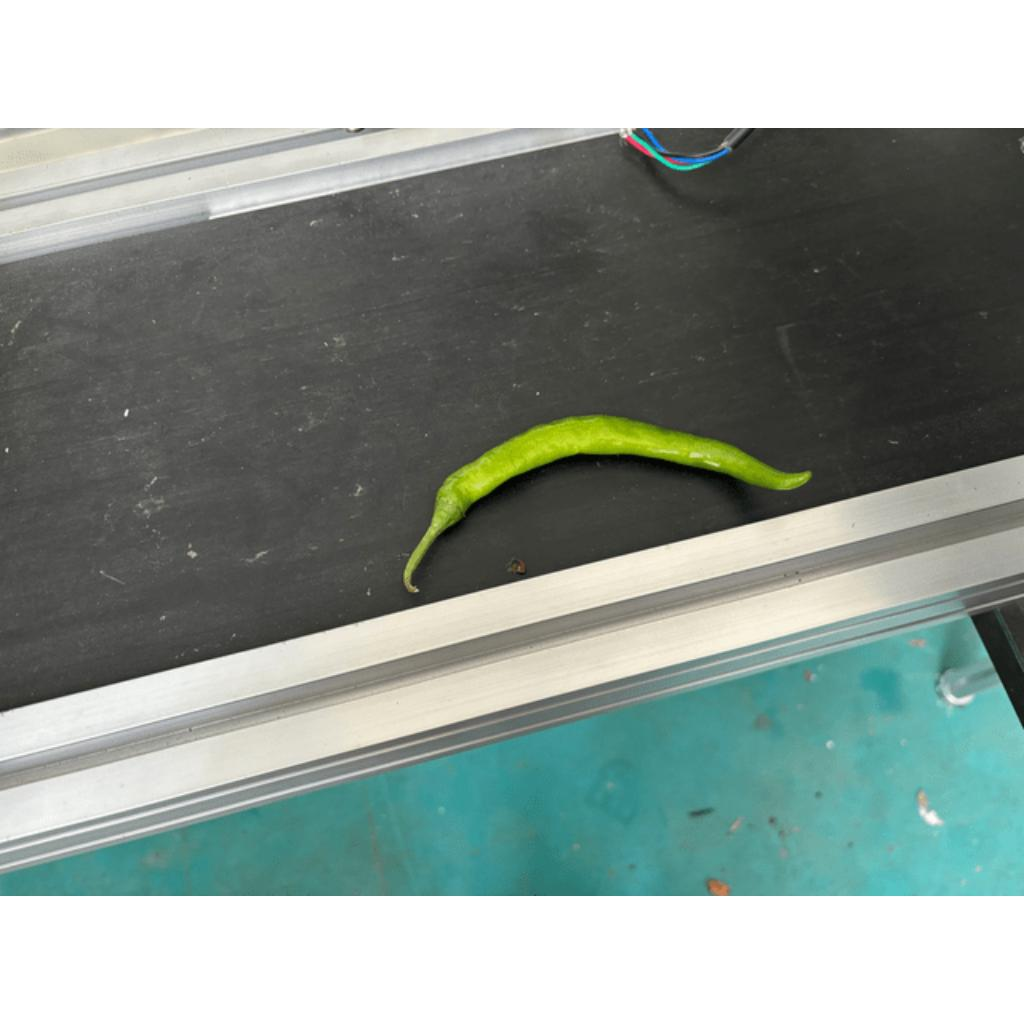chili: (433, 413, 817, 532)
